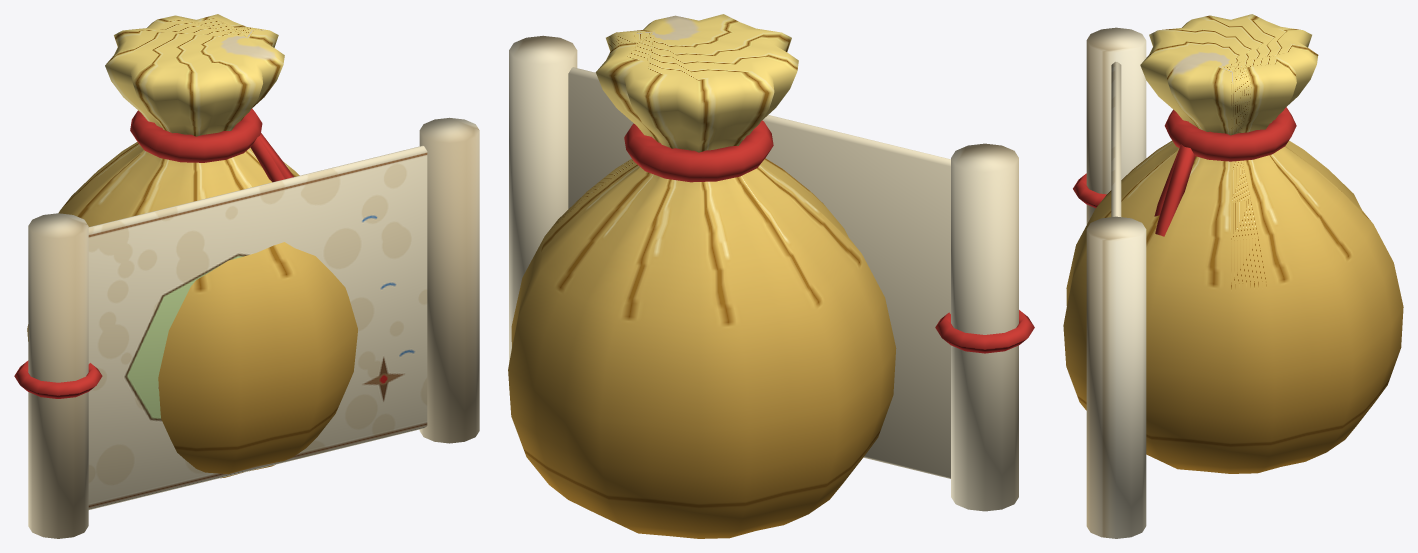
File: accessoires_nami.fbx
The picture shows the model from 3 angles, left to right: view 1: azimuth 30°, elevation 25°; view 2: azimuth 150°, elevation 25°; view 3: azimuth 270°, elevation 25°; orthographic projection. The views are drawn at different scales.
Parts seen in each view (by area): view 1: Acc_Carte, Acc_Bourse; view 2: Acc_Bourse, Acc_Carte; view 3: Acc_Bourse, Acc_Carte.
Boxes of the visible parts, x1,y1,x2,y2 form: Acc_Carte: [14, 117, 479, 538]; Acc_Bourse: [27, 14, 357, 478]; Acc_Bourse: [508, 14, 896, 538]; Acc_Carte: [509, 35, 1034, 511]; Acc_Bourse: [1063, 14, 1403, 473]; Acc_Carte: [1073, 27, 1146, 538].
Bounding box in the file's own units: 1.05 × 0.9 × 0.6847.
1 material, 1 textured.
